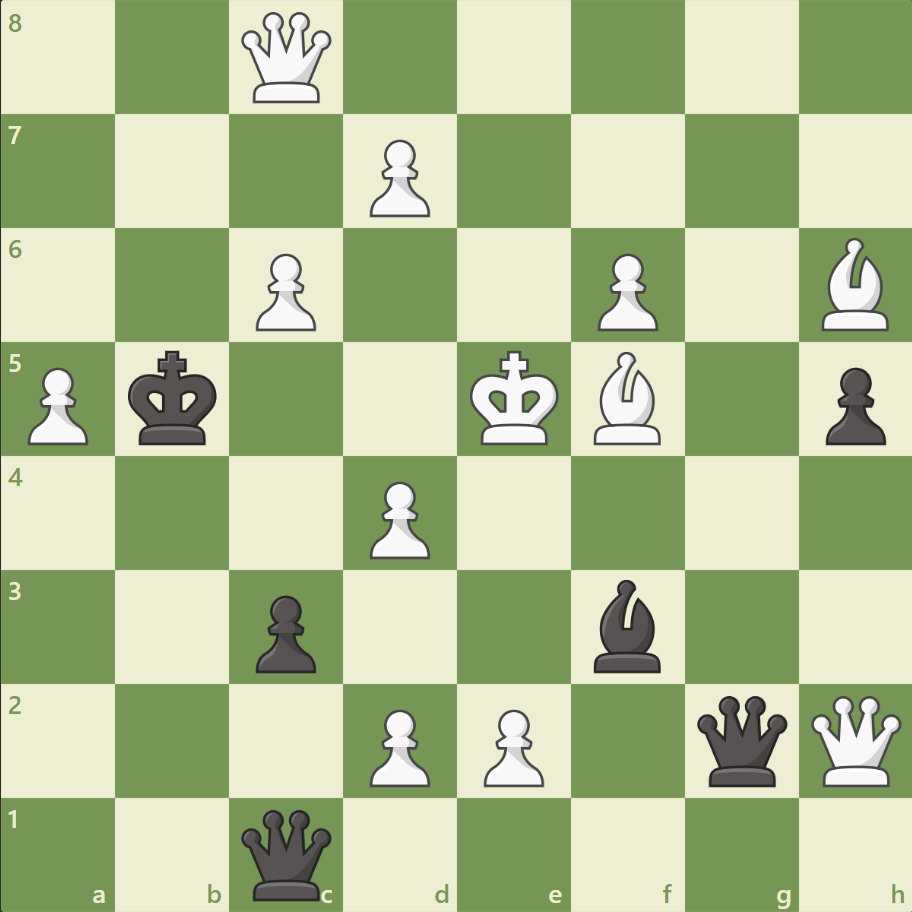B: (812, 233, 896, 336), (585, 347, 669, 449)
K: (465, 344, 565, 452)
P: (247, 246, 322, 337), (20, 359, 95, 450), (474, 700, 549, 791), (361, 132, 435, 223), (588, 246, 662, 337), (361, 473, 435, 564), (361, 700, 435, 791)
Q: (237, 9, 336, 108), (805, 690, 904, 789)
b: (585, 574, 669, 676)
k: (124, 344, 224, 452)
p: (247, 586, 322, 677), (815, 359, 889, 450)
q: (691, 690, 790, 789), (237, 804, 336, 903)
